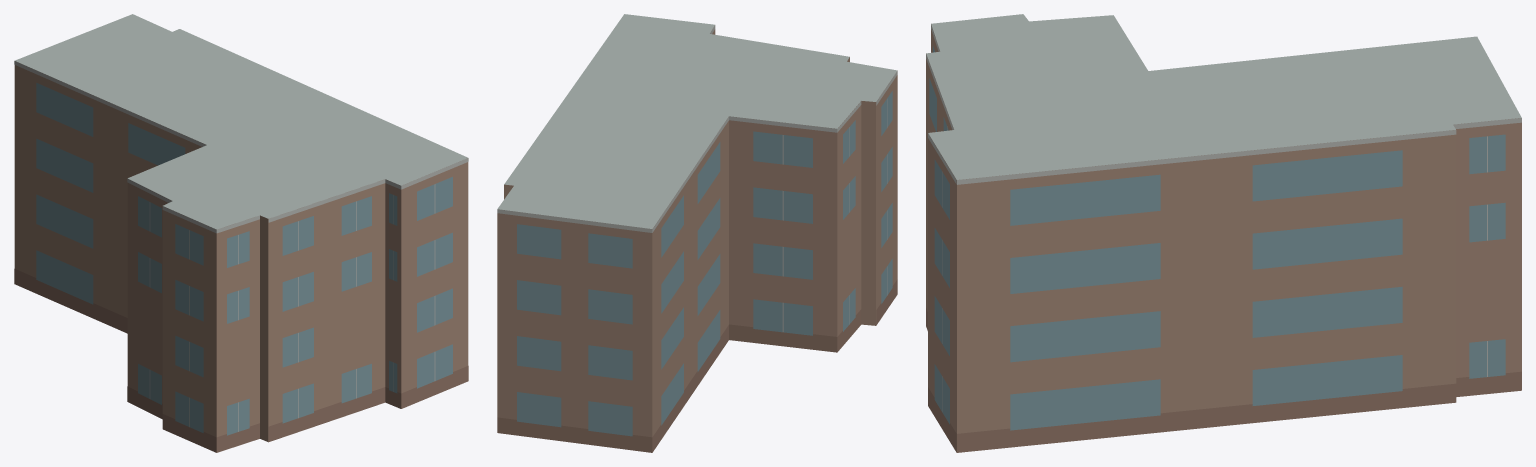
File: survey-upis-32661392.glb
3 renders of one model, left to right at view 1: azimuth 30°, elevation 25°; view 2: azimuth 150°, elevation 25°; view 3: azimuth 270°, elevation 25°, orthographic. The views are drawn at different scales.
Parts seen in each view (by area): view 1: survey-upis-32661392.tmp; view 2: survey-upis-32661392.tmp; view 3: survey-upis-32661392.tmp.
Boxes of the visible parts, x1=… form: survey-upis-32661392.tmp: x1=14, y1=14, x2=468, y2=452; survey-upis-32661392.tmp: x1=497, y1=14, x2=897, y2=452; survey-upis-32661392.tmp: x1=926, y1=14, x2=1521, y2=452.
Size of the model in its own units: 17.9 by 13.71 by 27.14.
